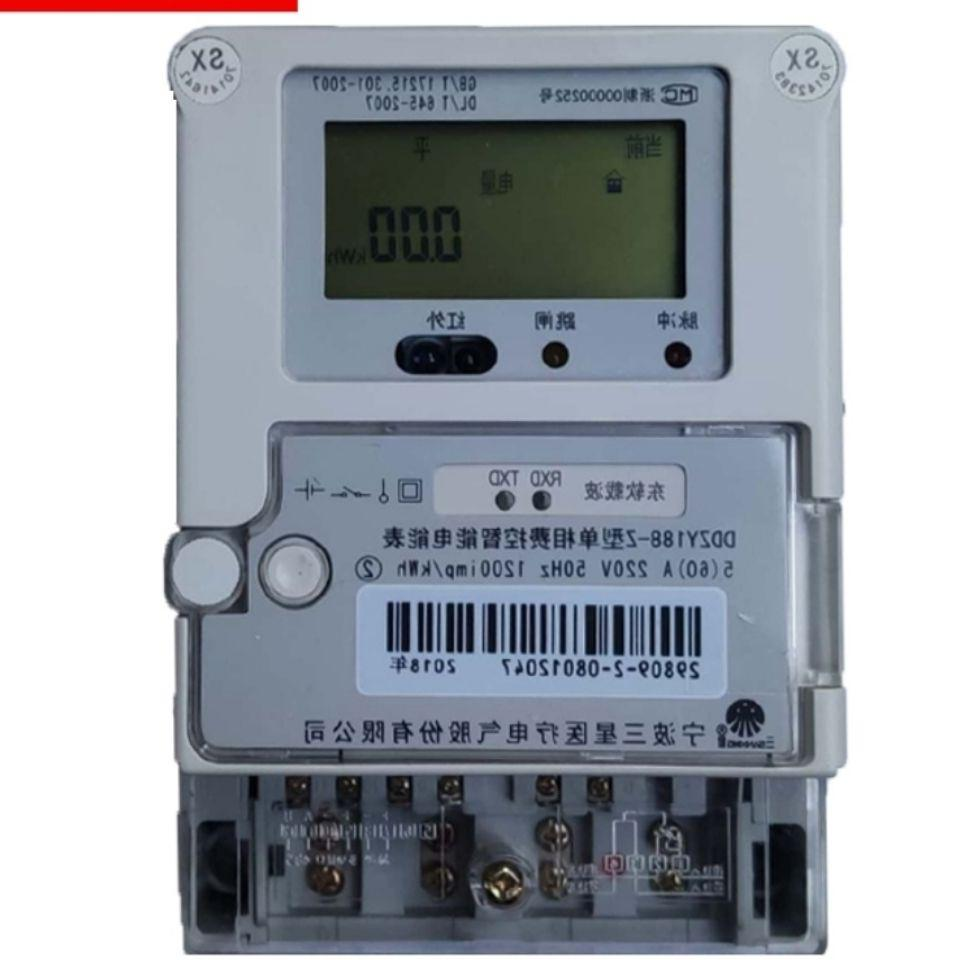digital: (174, 27, 843, 775)
